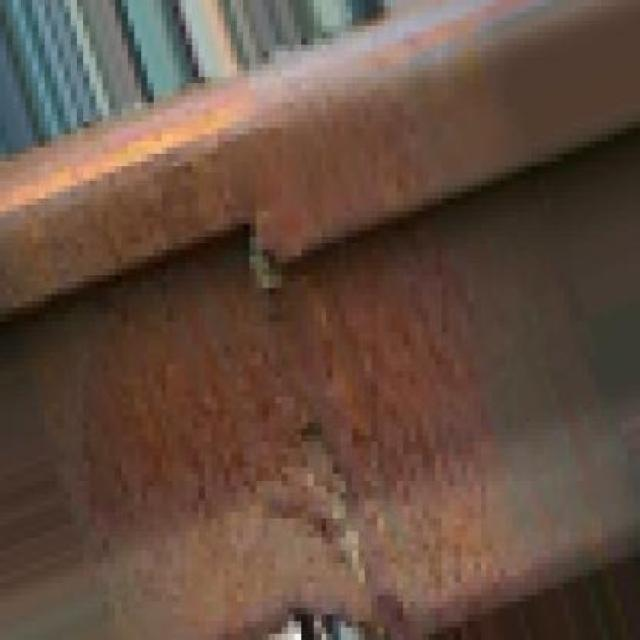defective: (9, 11, 618, 640)
